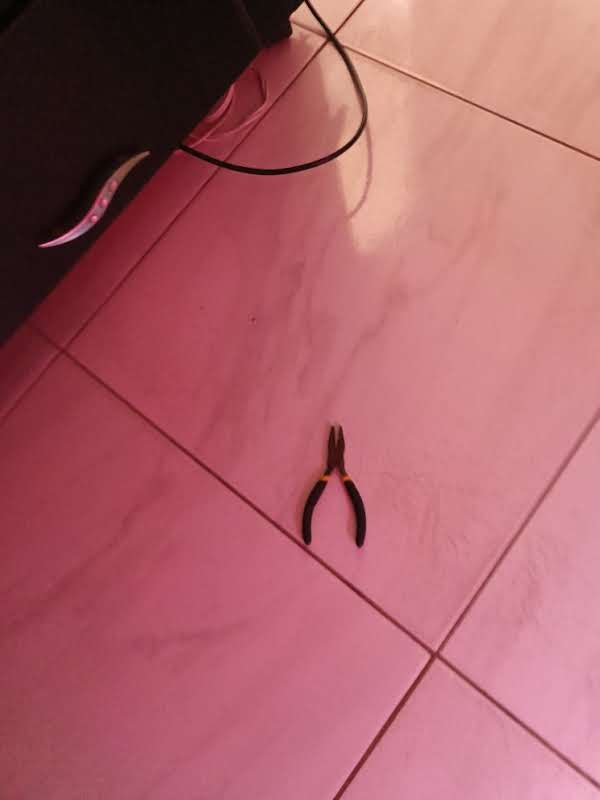Pinzas: (302, 425, 364, 544)
